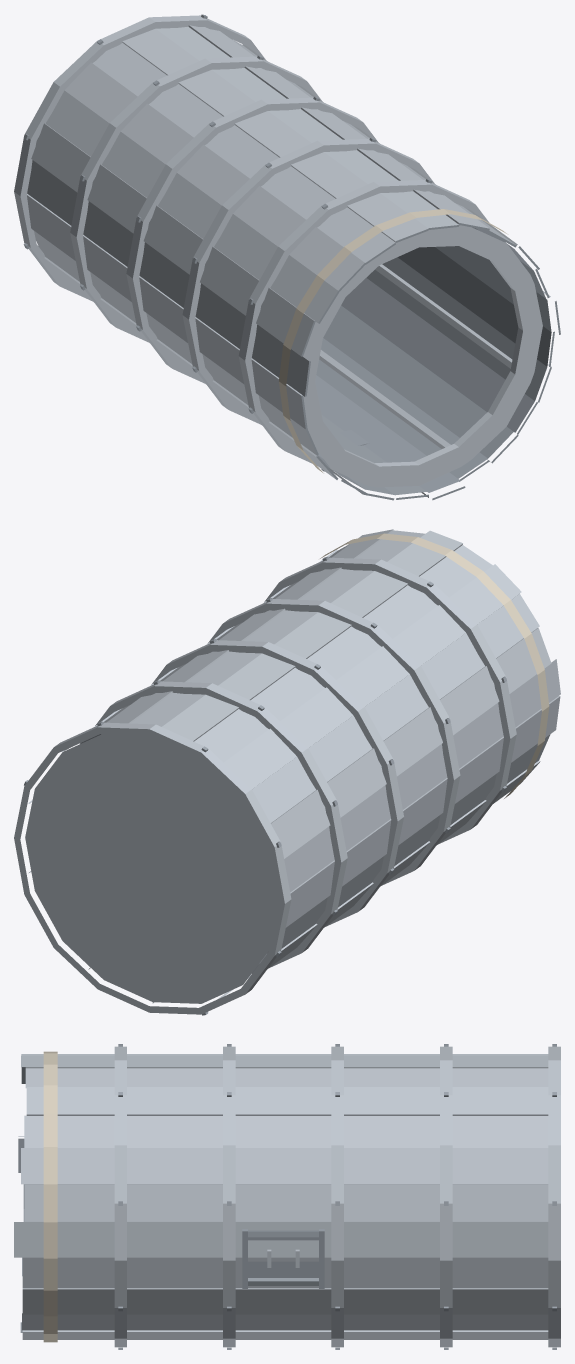
The model's file is sec-b3.glb.
The picture shows the model from 3 angles, top to bottom: view 1: azimuth 30°, elevation 25°; view 2: azimuth 150°, elevation 25°; view 3: azimuth 270°, elevation 25°; orthographic projection. The views are drawn at different scales.
Visible parts, largest first — view 1: plate, steel, steelDark, hazard; view 2: steel, plate, hazard, steelDark; view 3: plate, steel, hazard, steelDark.
Part boxes in pixels (left/top/right/bottom): plate: left=27, top=25, right=551, bottom=497; steel: left=14, top=15, right=542, bottom=487; steelDark: left=23, top=14, right=560, bottom=500; hazard: left=279, top=209, right=508, bottom=473; steel: left=14, top=557, right=516, bottom=1014; plate: left=28, top=529, right=560, bottom=1003; hazard: left=320, top=533, right=549, bottom=798; steelDark: left=24, top=556, right=506, bottom=1015; plate: left=14, top=1054, right=548, bottom=1339; steel: left=114, top=1046, right=560, bottom=1347; hazard: left=43, top=1051, right=57, bottom=1342; steelDark: left=18, top=1044, right=556, bottom=1349.
Size of the model in its own units: 7.22 by 7.22 by 13.11.
